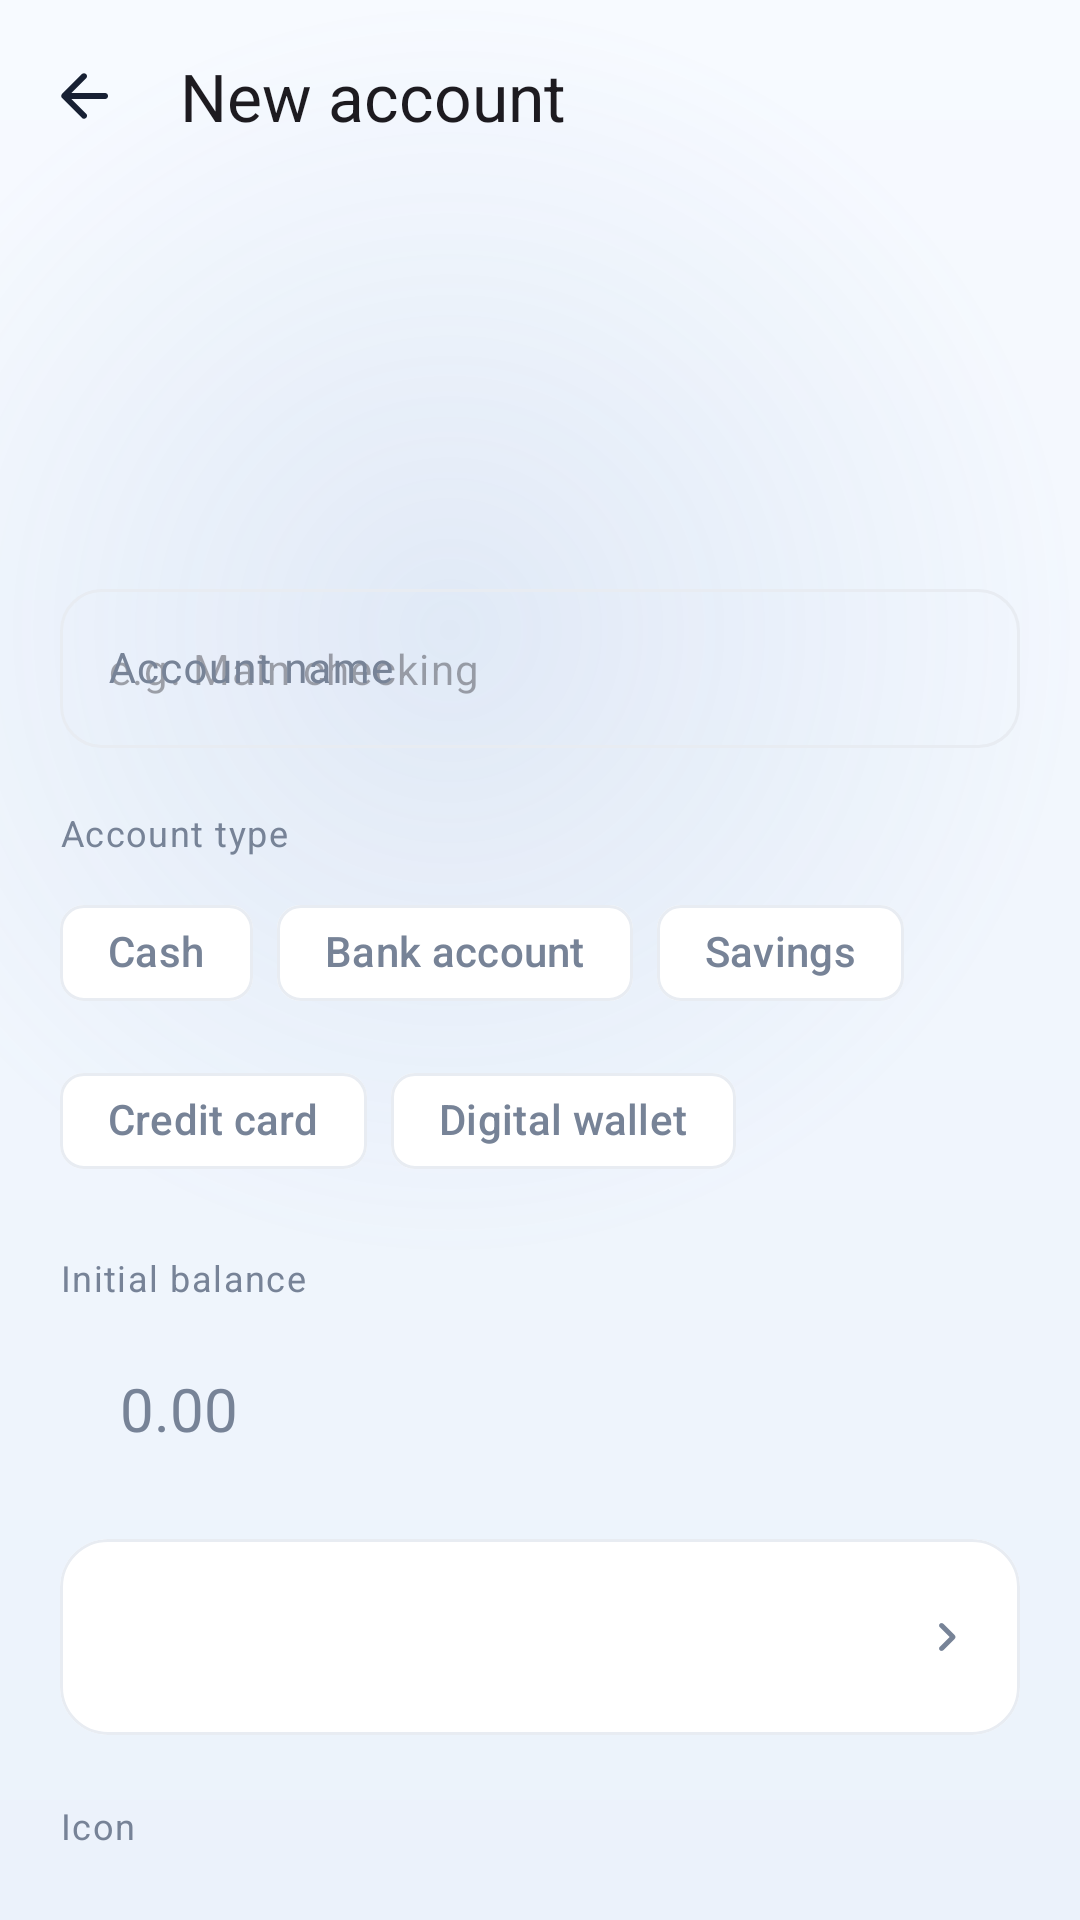

Point at icon controls on the screen. Image size 1080px x 1920px, points as point (x, y).
chevron right: point (947, 1637)
